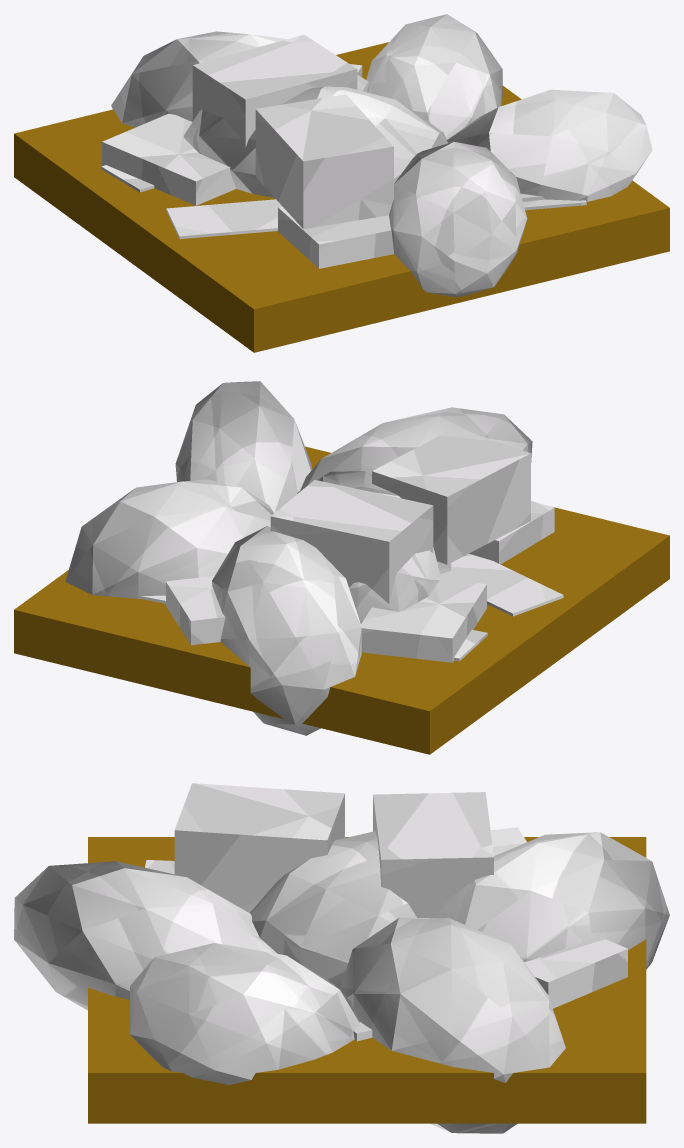
File: rocks1.obj
The picture shows the model from 3 angles, top to bottom: view 1: azimuth 30°, elevation 25°; view 2: azimuth 150°, elevation 25°; view 3: azimuth 270°, elevation 25°; orthographic projection. The views are drawn at different scales.
Bounding box in the file's own units: 1.04 × 0.4117 × 1.17.
Materials: 2 (1 with a texture image).
